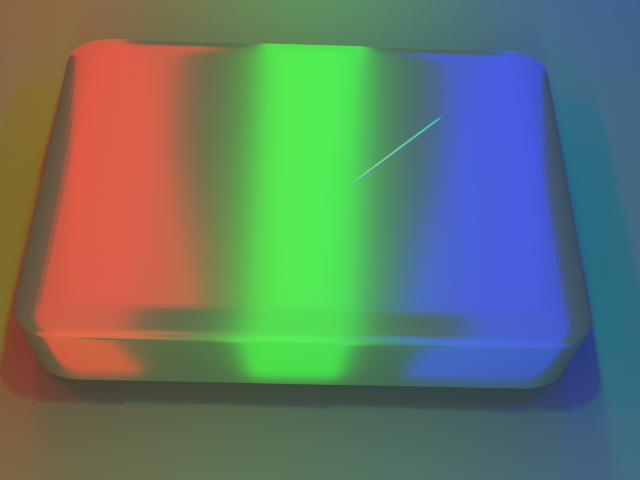scratch: (180, 26, 581, 273)
